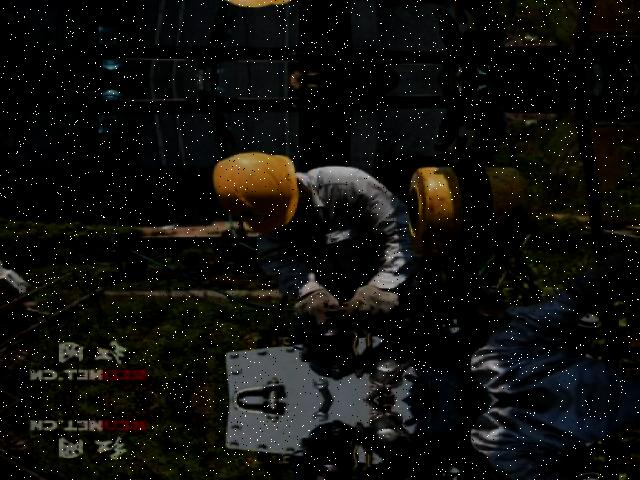Helmet: (208, 145, 304, 240)
